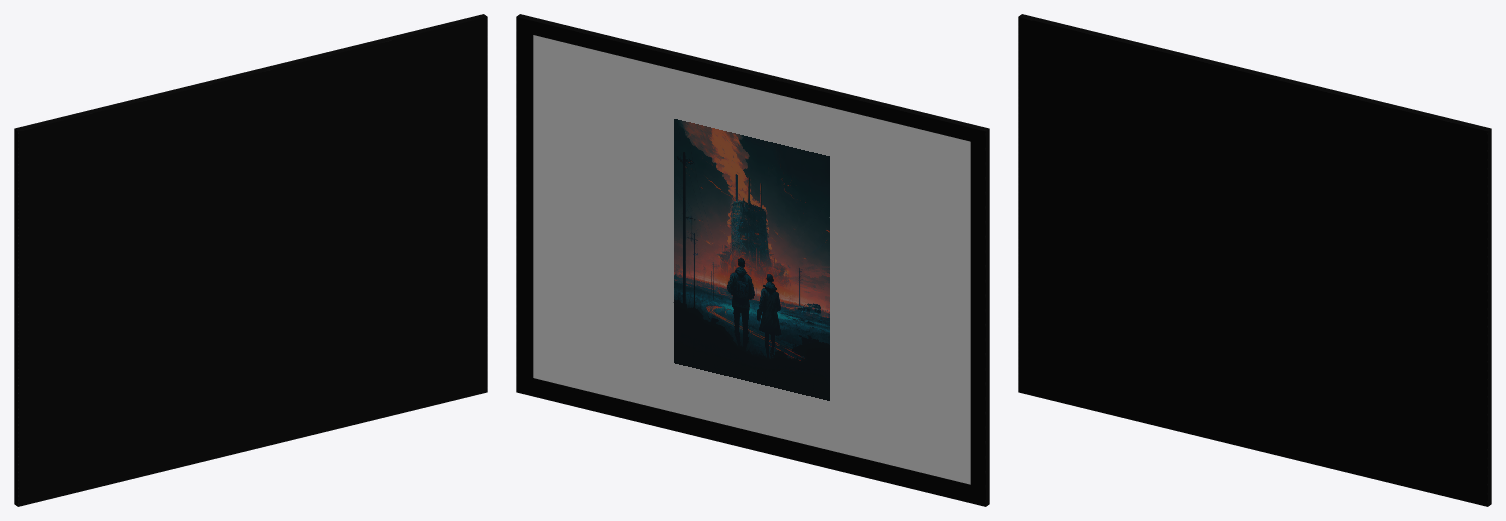
The model's file is After Land2.glb.
3 renders of one model, left to right at view 1: azimuth 30°, elevation 25°; view 2: azimuth 150°, elevation 25°; view 3: azimuth 330°, elevation 25°, orthographic.
Parts seen in each view (by area): view 1: node_id3; view 2: mesh_id1, node_id3; view 3: node_id3.
Boxes of the visible parts, x1=… form: node_id3: x1=14, y1=14, x2=487, y2=506; mesh_id1: x1=533, y1=35, x2=970, y2=484; node_id3: x1=516, y1=14, x2=989, y2=506; node_id3: x1=1018, y1=14, x2=1491, y2=506.
Size of the model in its own units: 0.8597 by 0.6568 by 0.0127.
Materials: 2 (2 with a texture image).
